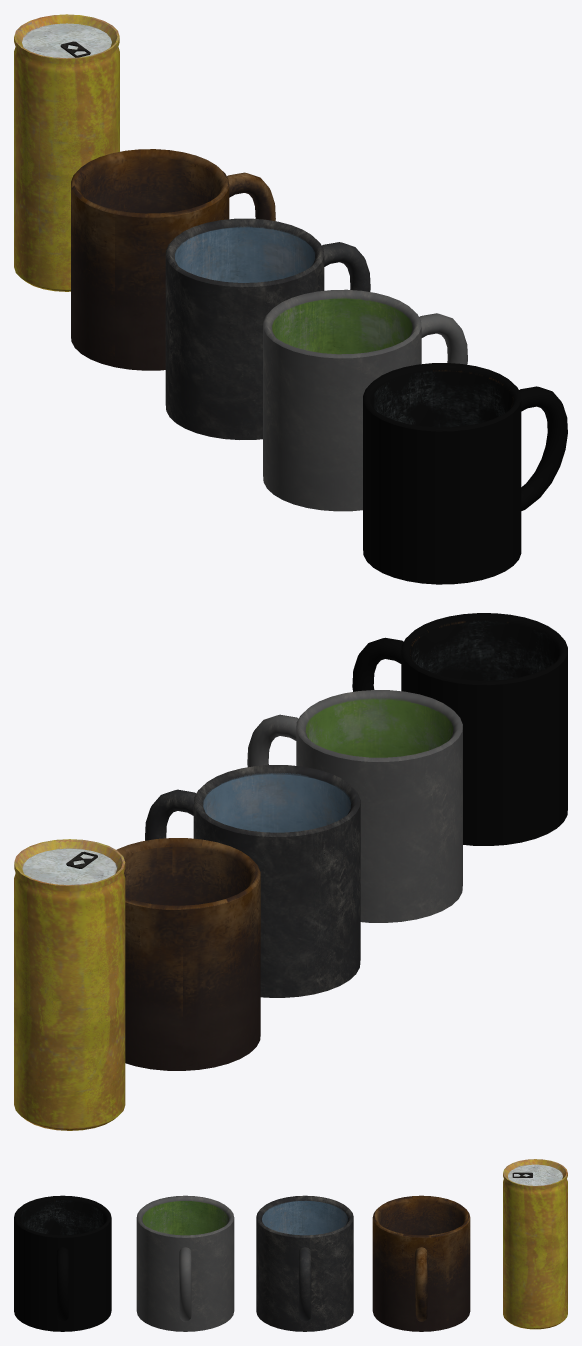
Rendered from stylized_low-poly_drinkware_pack_mugs__can.glb.
The picture shows the model from 3 angles, top to bottom: view 1: azimuth 30°, elevation 25°; view 2: azimuth 150°, elevation 25°; view 3: azimuth 270°, elevation 25°; orthographic projection. The views are drawn at different scales.
Visible parts, largest first — view 1: SM_Kupa_Yesil_Gri.003_4, SM_Kupa_Yesil_Gri.002_3, SM_Kupa_Yesil_Gri.001_2, SM_Kupa_Yesil_Gri_0, SM_icecek_sisesi_1; view 2: SM_icecek_sisesi_1, SM_Kupa_Yesil_Gri_0, SM_Kupa_Yesil_Gri.003_4, SM_Kupa_Yesil_Gri.002_3, SM_Kupa_Yesil_Gri.001_2; view 3: SM_Kupa_Yesil_Gri.002_3, SM_Kupa_Yesil_Gri_0, SM_Kupa_Yesil_Gri.001_2, SM_Kupa_Yesil_Gri.003_4, SM_icecek_sisesi_1.
Boxes of the visible parts, left/top/right/bottom form: SM_Kupa_Yesil_Gri.003_4: left=363, top=363, right=567, bottom=584; SM_Kupa_Yesil_Gri.002_3: left=263, top=289, right=467, bottom=511; SM_Kupa_Yesil_Gri.001_2: left=165, top=218, right=370, bottom=439; SM_Kupa_Yesil_Gri_0: left=71, top=149, right=275, bottom=370; SM_icecek_sisesi_1: left=14, top=14, right=119, bottom=291; SM_icecek_sisesi_1: left=14, top=839, right=125, bottom=1130; SM_Kupa_Yesil_Gri_0: left=116, top=838, right=260, bottom=1070; SM_Kupa_Yesil_Gri.003_4: left=352, top=613, right=567, bottom=845; SM_Kupa_Yesil_Gri.002_3: left=247, top=690, right=462, bottom=922; SM_Kupa_Yesil_Gri.001_2: left=145, top=765, right=360, bottom=997; SM_Kupa_Yesil_Gri.002_3: left=136, top=1195, right=234, bottom=1331; SM_Kupa_Yesil_Gri_0: left=372, top=1195, right=470, bottom=1331; SM_Kupa_Yesil_Gri.001_2: left=256, top=1195, right=353, bottom=1331; SM_Kupa_Yesil_Gri.003_4: left=14, top=1195, right=111, bottom=1331; SM_icecek_sisesi_1: left=503, top=1159, right=567, bottom=1329.
Size of the model in its own units: 0.1738 by 0.205 by 0.7029.
Materials: 2 (2 with a texture image).
